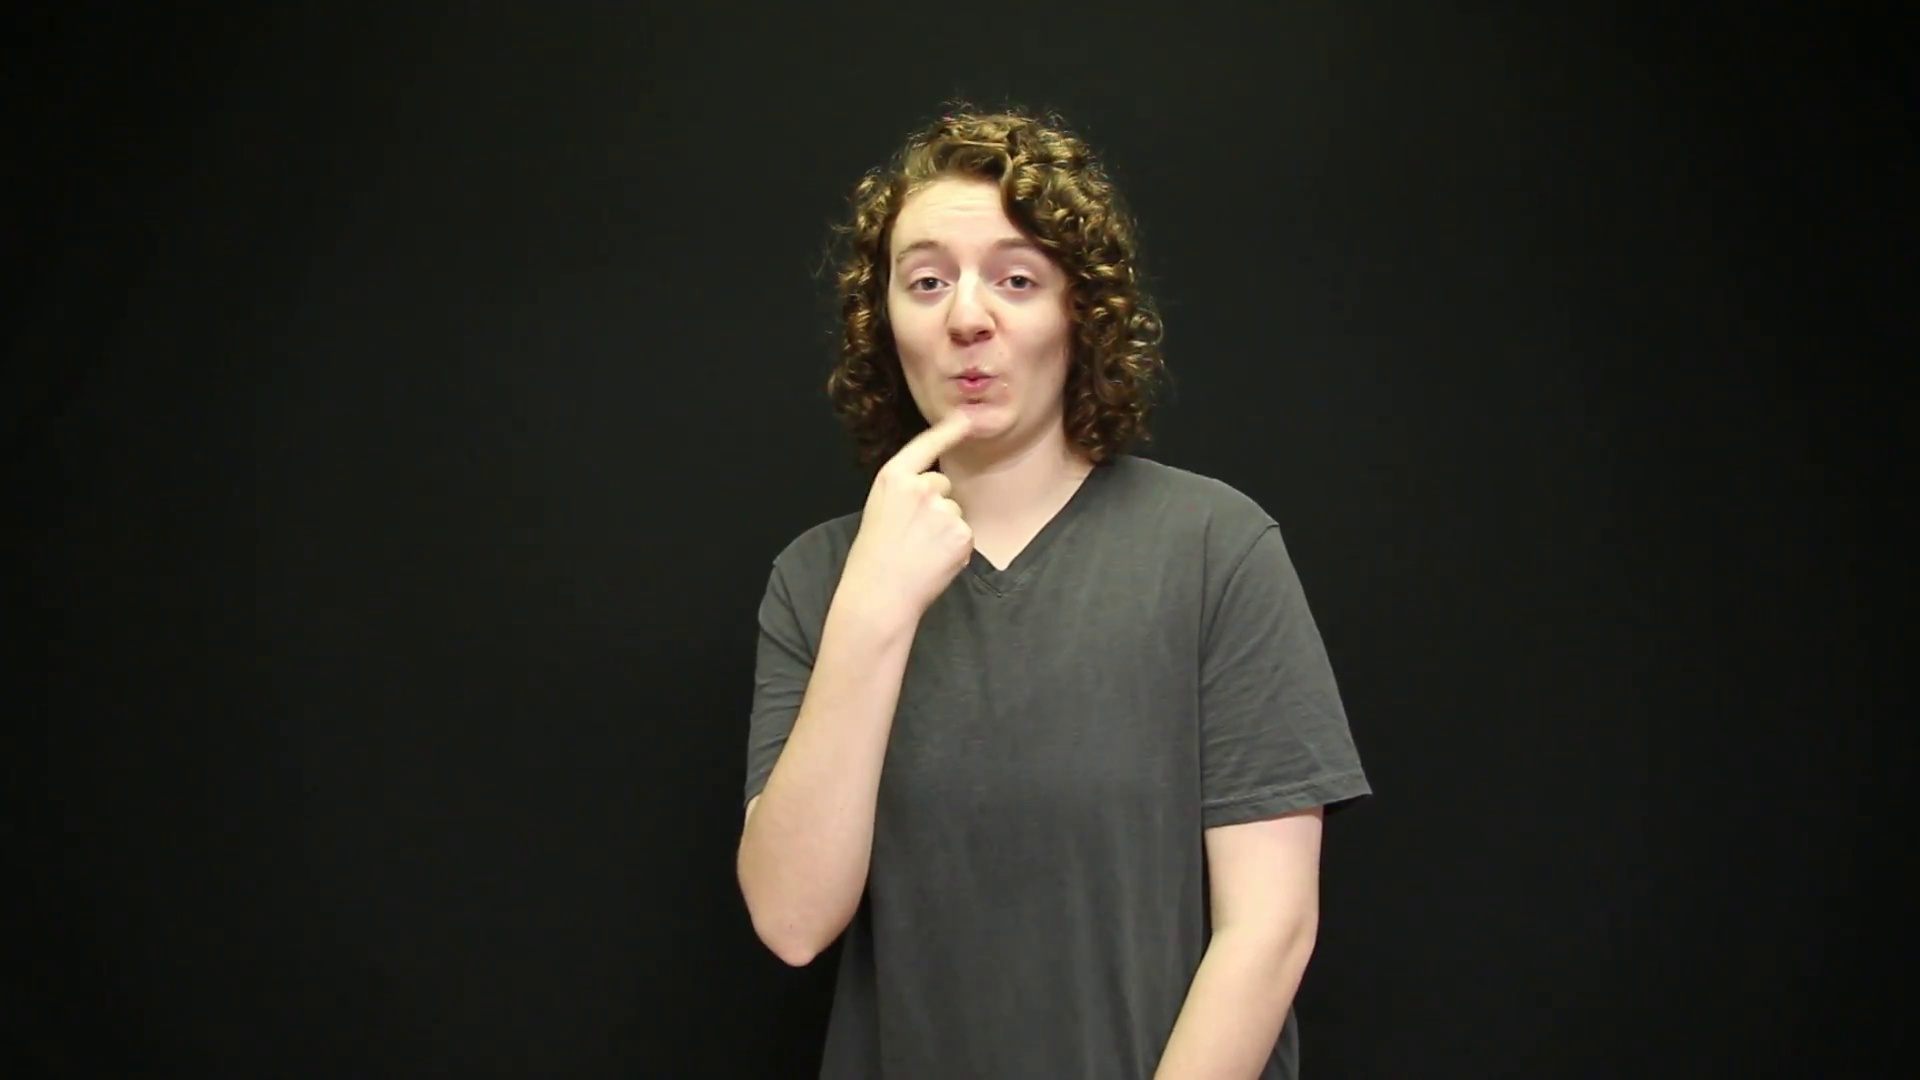who: (829, 363, 1092, 655)
